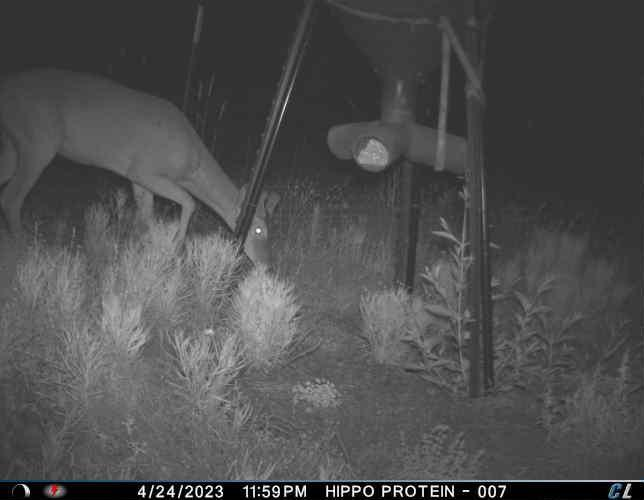Deer: (0, 61, 283, 286)
